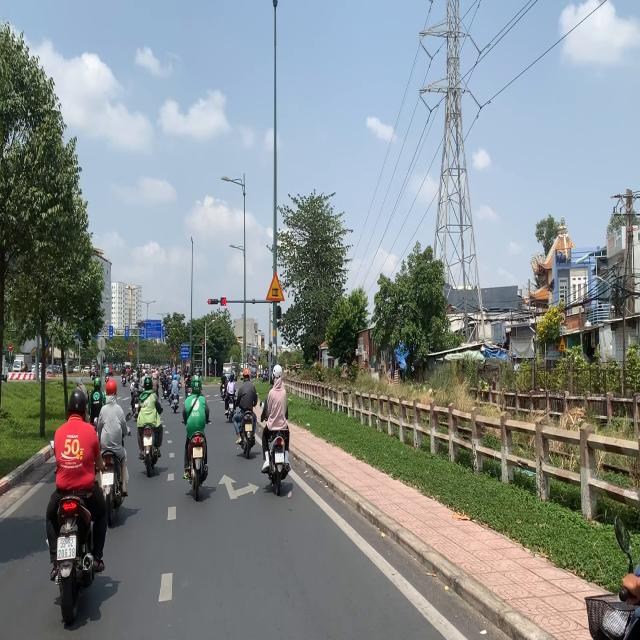Cam dung va do: (129, 342, 133, 349)
Cam nguoc chieu: (8, 344, 12, 351)
Nguy hiem: (266, 271, 286, 302)
Toc do toi da: (104, 325, 108, 332), (125, 326, 128, 331), (141, 326, 144, 331), (162, 326, 165, 331)
